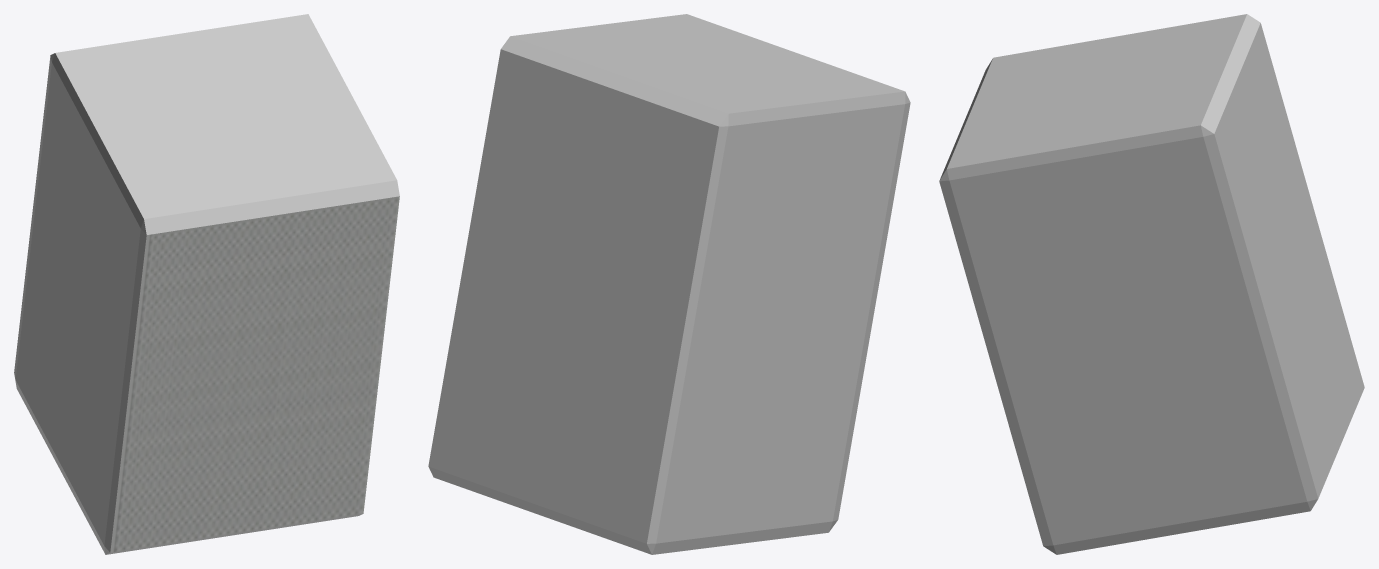
Rendered from altavoz.FBX.
3 views of the same model, side by side, from view 1: azimuth 30°, elevation 25°; view 2: azimuth 150°, elevation 25°; view 3: azimuth 270°, elevation 25° (orthographic). The views are drawn at different scales.
Parts seen in each view (by area): view 1: altavoz; view 2: altavoz; view 3: altavoz.
Boxes of the visible parts, left/top/right/bottom form: altavoz: left=14, top=14, right=399, bottom=554; altavoz: left=428, top=14, right=910, bottom=554; altavoz: left=939, top=14, right=1364, bottom=554.
Bounding box in the file's own units: 19.88 × 29.17 × 25.55.
